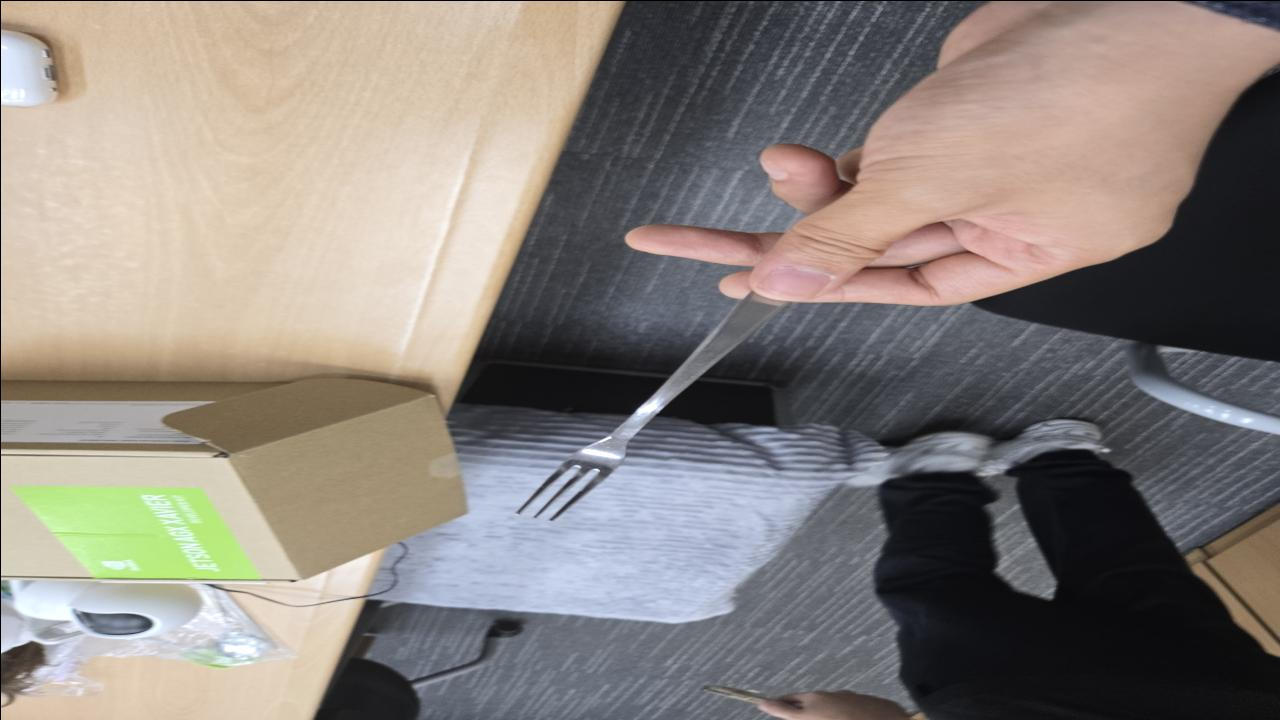fork: (514, 290, 788, 520)
